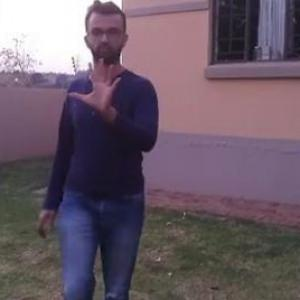follow_hand: (68, 55, 124, 114)
